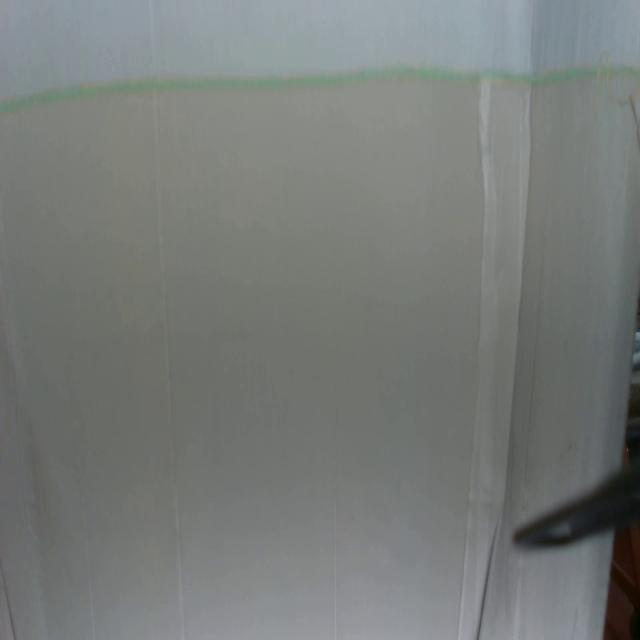crease: (147, 2, 187, 635), (453, 75, 487, 640), (504, 86, 535, 499), (523, 226, 552, 485), (478, 517, 502, 640), (0, 551, 20, 640), (84, 530, 96, 640), (331, 500, 339, 640)
